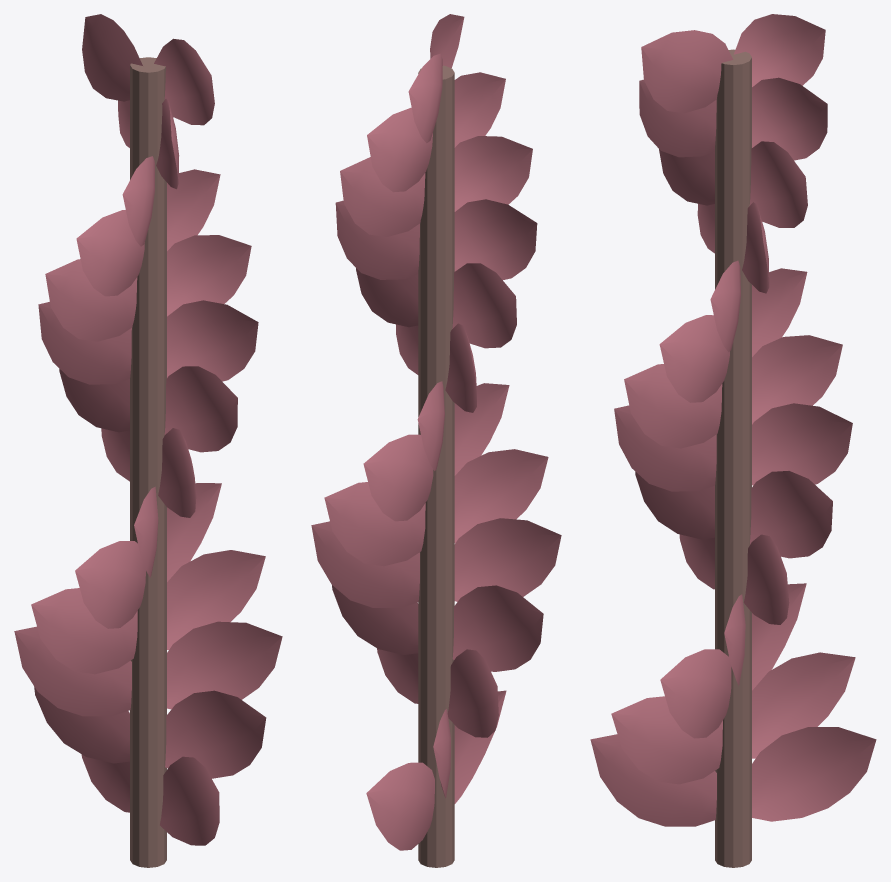
The model's file is rotala.glb.
The picture shows the model from 3 angles, left to right: view 1: azimuth 30°, elevation 25°; view 2: azimuth 150°, elevation 25°; view 3: azimuth 270°, elevation 25°; orthographic projection.
Parts seen in each view (by area): view 1: rotala, rotala_stem; view 2: rotala, rotala_stem; view 3: rotala, rotala_stem.
Part boxes in pixels (x1=…): rotala: x1=14, y1=14, x2=282, y2=845; rotala_stem: x1=130, y1=57, x2=166, y2=867; rotala: x1=311, y1=14, x2=561, y2=850; rotala_stem: x1=418, y1=65, x2=454, y2=867; rotala: x1=590, y1=14, x2=876, y2=826; rotala_stem: x1=715, y1=49, x2=751, y2=867.
Bounding box in the file's own units: 0.2844 × 1 × 0.3094.
